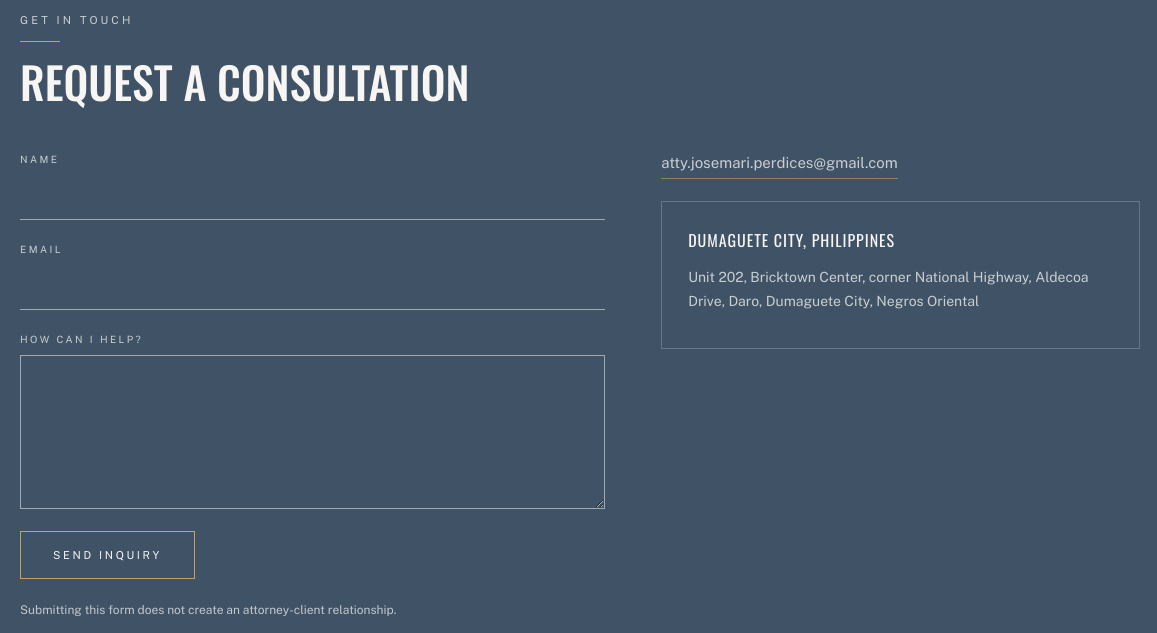
Scenario: Contact › posts the fields to the contact API and reports success
Type "Maria Santos" into the field labelled "Name" at (313, 197), box [20,175,605,220]
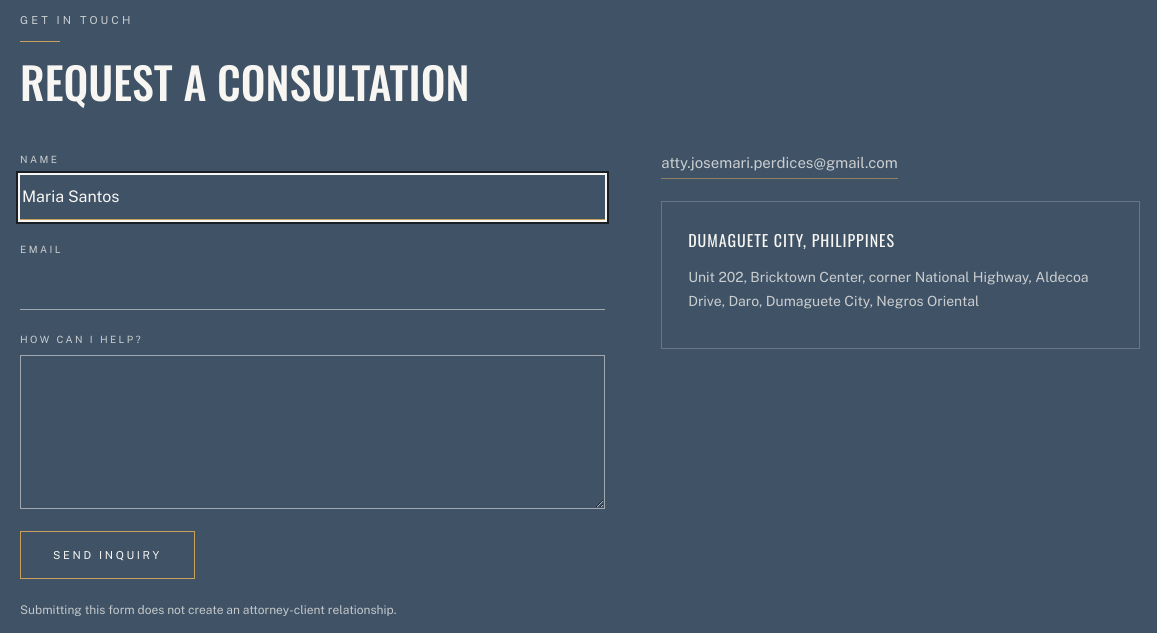
Type "maria@example.com" into the field labelled "Email" at (313, 287), box [20,265,605,310]
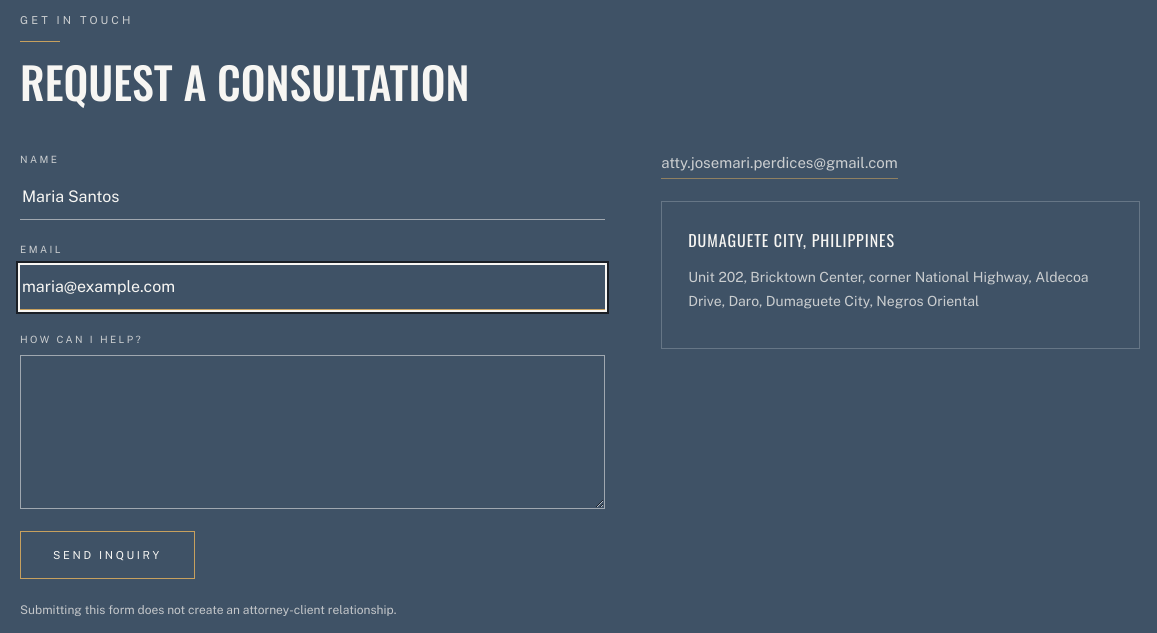
Type "I need help with a visa." into the text box labelled "How can I help?" at (313, 432), box [20,355,605,509]
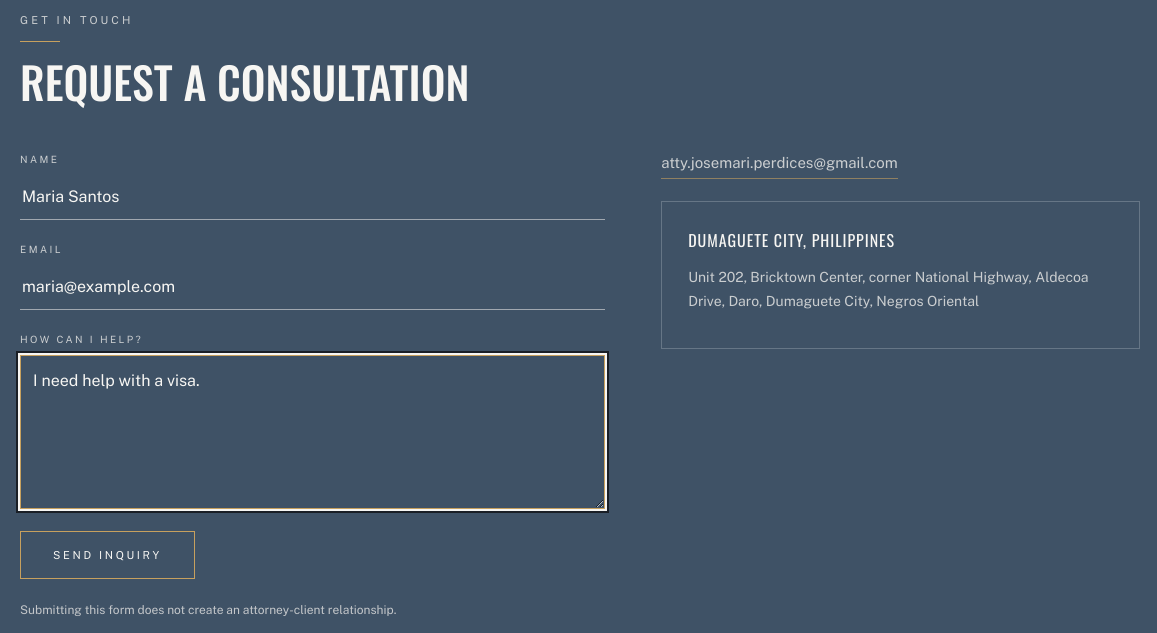
Click the button "Send inquiry" at (107, 555), box [20,531,195,579]
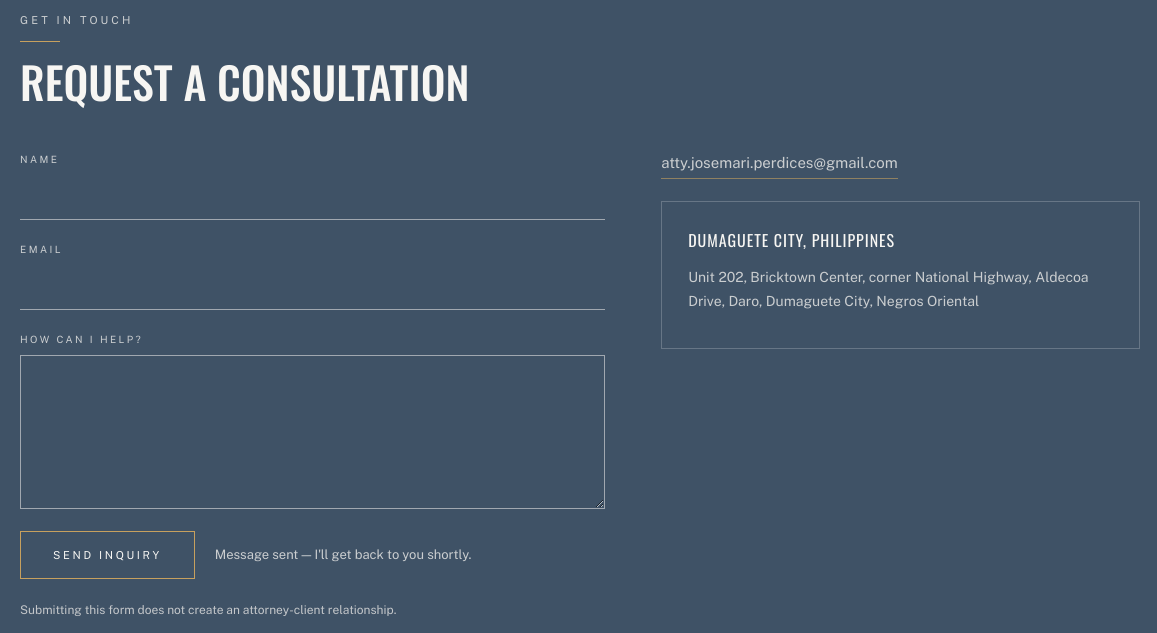
Expected: the message shows "Message sent", [215,547,471,562]
